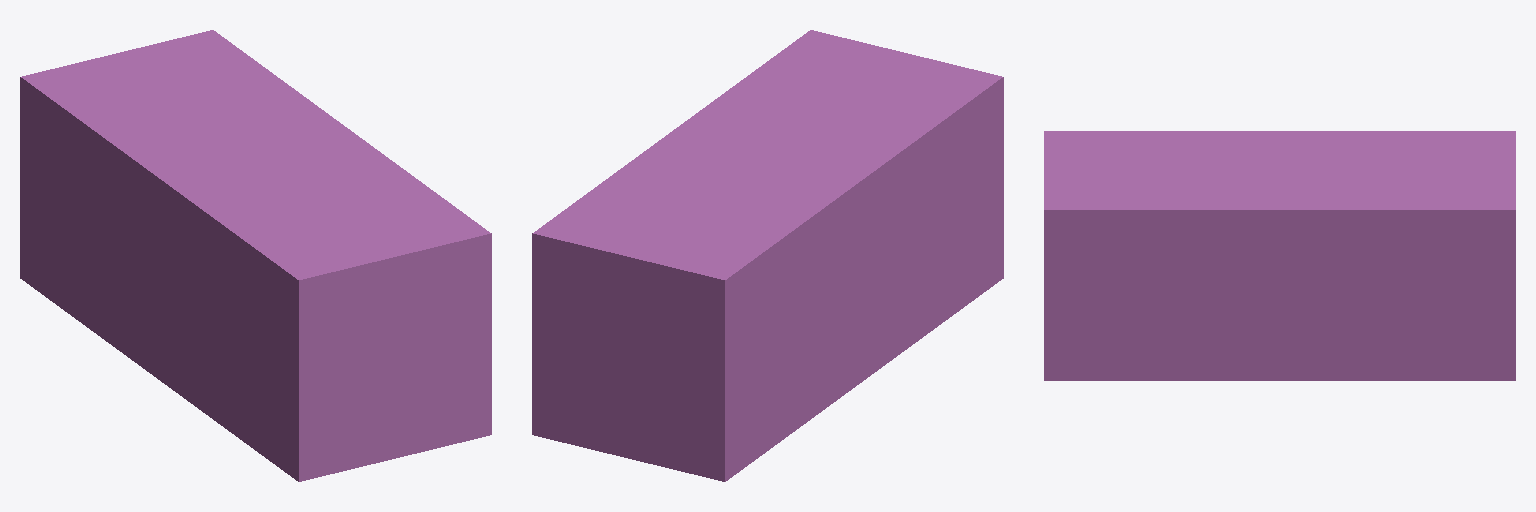
The robot description file, URDF, robot "box_robot":
<?xml version="1.0" encoding="utf-8"?>
<robot name="box_robot">
  <link name="box_body">
    <inertial>
      <mass value="20.0"/>  <!-- Mass of the box -->
      <inertia ixx="0.485" iyy="0.135" izz="0.485" ixy="0" ixz="0" iyz="0"/>
    </inertial>
    <visual>
      <origin xyz="0 0 0"/>
      <geometry>
        <box size="0.2 0.5 0.2"/> <!-- Box dimensions -->
      </geometry>
      <material name="pink">
        <color rgba="0.75 0.5 0.75 1"/>  <!-- Light purple color -->
      </material>
    </visual>
    <collision>
      <geometry>
        <box size="0.2 0.5 0.2"/>
      </geometry>
    </collision>
  </link>
</robot>

--- What the picture shows (computed from the rendered views, not written in the file) ---
Views: 3 orthographic renders of the robot side by side, from view 1: azimuth 30°, elevation 25°; view 2: azimuth 150°, elevation 25°; view 3: azimuth 270°, elevation 25°.
Robot: box_robot — 1 links, 0 joints (none); root link box_body; default pose: every joint at zero.
Visible links, largest first — view 1: box_body; view 2: box_body; view 3: box_body.
Link boxes in pixels (x1,y1,x2,y2): box_body: (20, 30, 491, 481); box_body: (532, 30, 1003, 481); box_body: (1044, 131, 1515, 380).
Bounding box of the posed robot: 0.2 × 0.5 × 0.2 m (x, y, z).
Geometry: primitives only (box / cylinder / sphere), no mesh files.